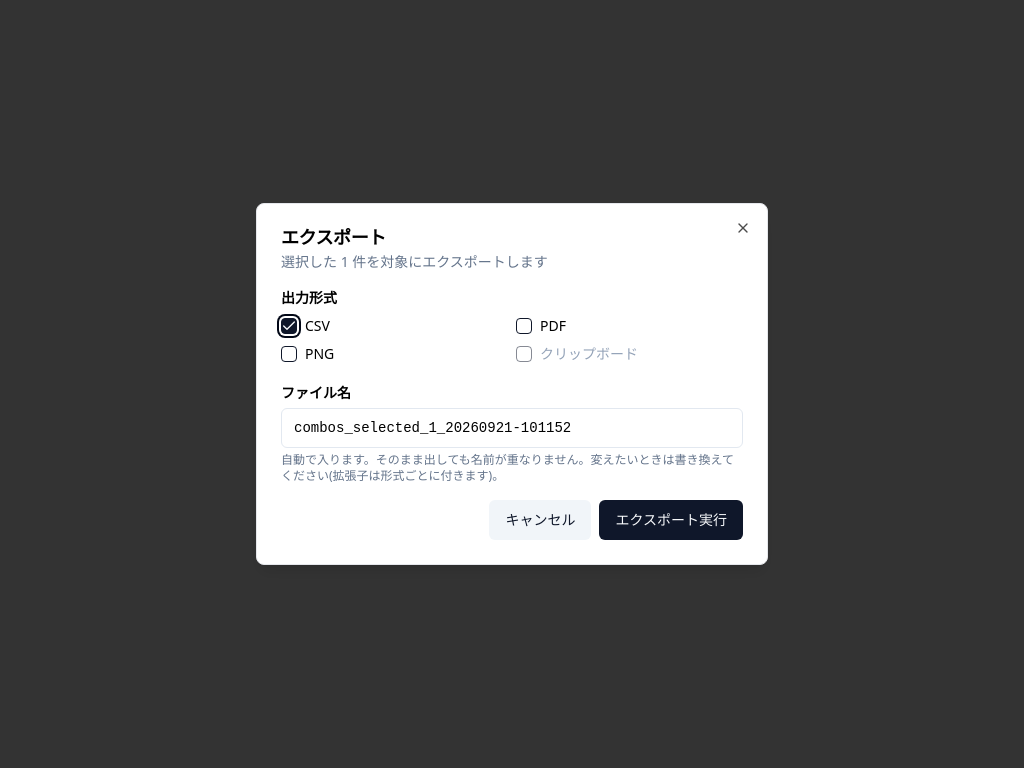
Test: ExportDialog › 視覚形式のみ(PDF)選択時は video/image を出さない(15項目・案B)
The image size is (1024, 768).
Click the checkbox with test id "export-format-csv".
click(289, 326)  # box [281,318,297,334]
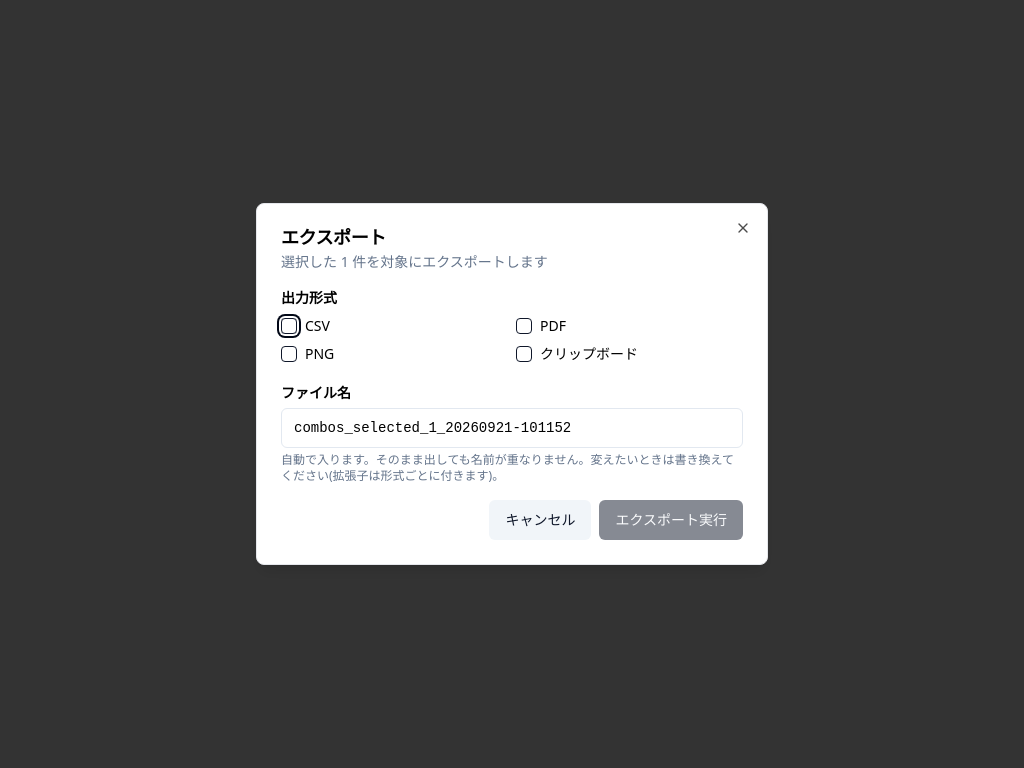
Click the checkbox with test id "export-format-pdf".
click(524, 326)  # box [516,318,532,334]
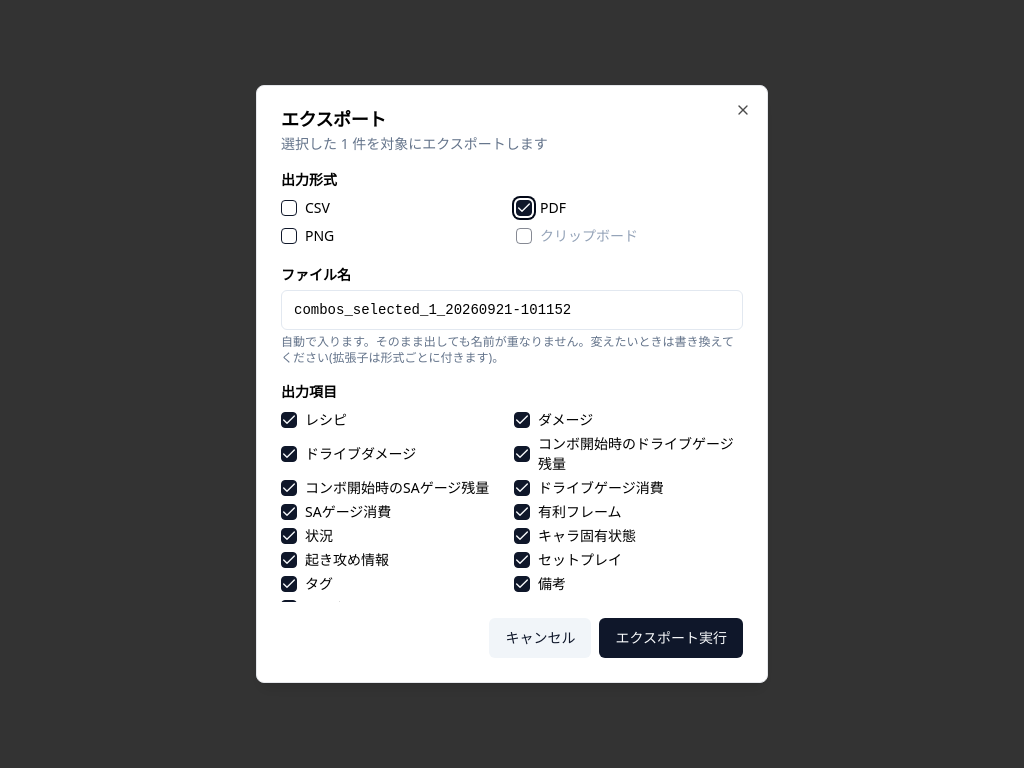
Expected: the checkbox with test id "export-item-recipe" is shown, [281,412,297,428]
